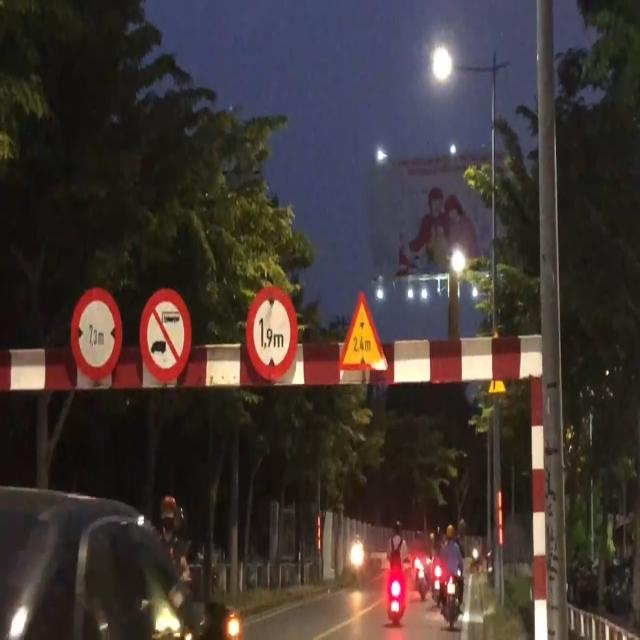Bien bao cam xe oto khach va xe oto tai: (136, 283, 197, 390)
Bien bao chieu cao tinh khong thuc te: (337, 284, 390, 378)
Bien bao han che chieu cao: (246, 277, 304, 389)
